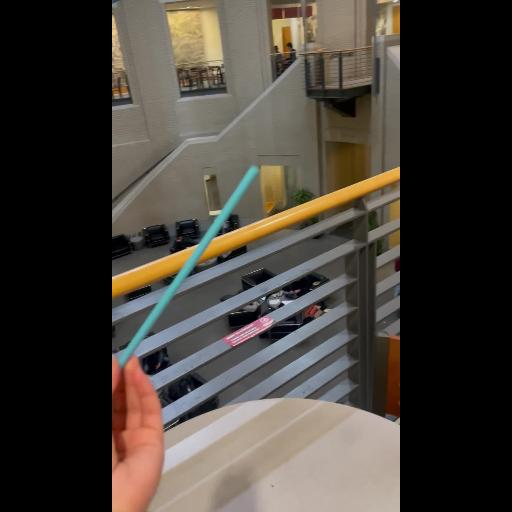straw: (112, 158, 274, 402)
